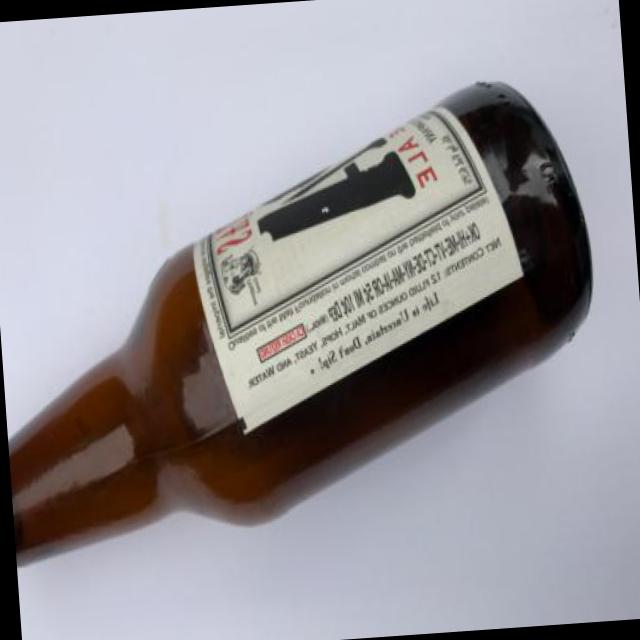chai_thuy_tinh: (8, 83, 593, 567)
